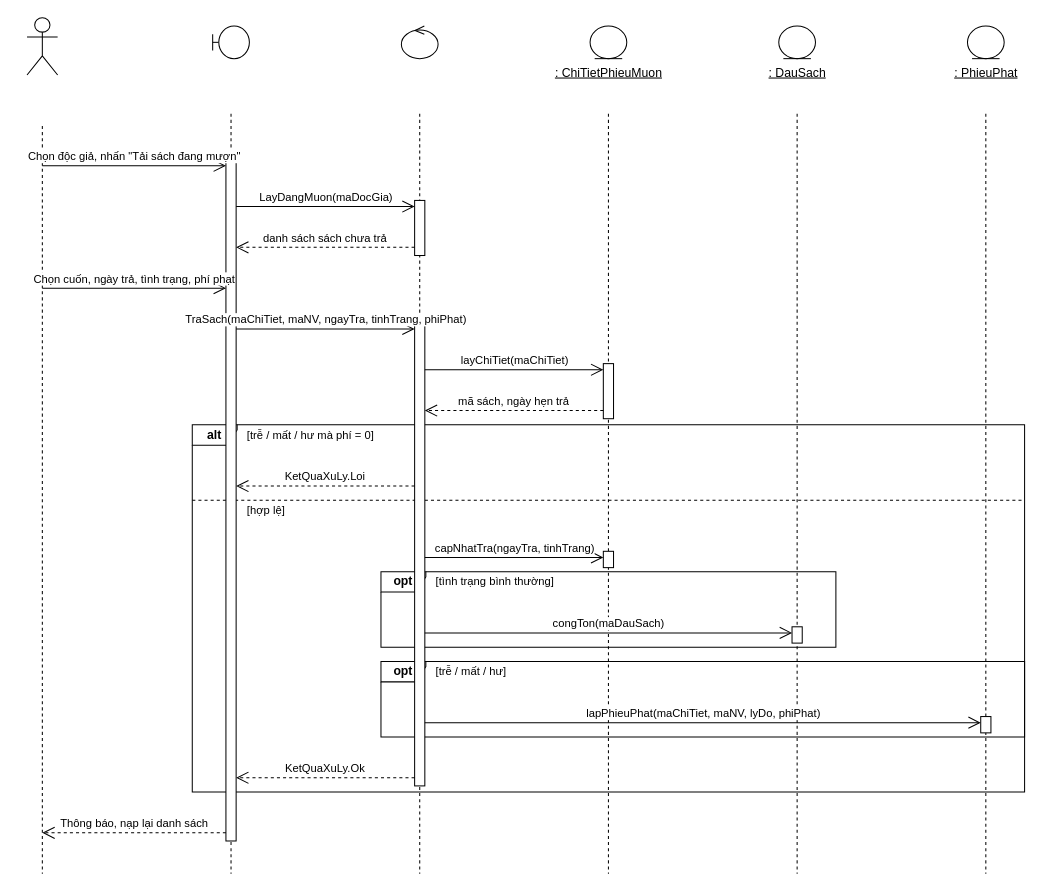
Image size: 1043x893. Some labels were removed from this diagram. The centre of each missing label's shape, as x and y in pixels:
": FrmMuonTra" belongs at (230,42).
": MuonTraService" belongs at (419,42).
": Thủ thư" belongs at (42,46).
